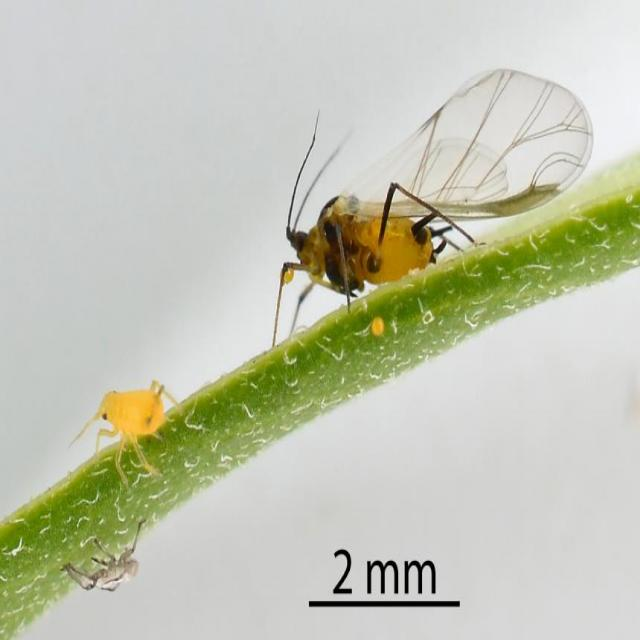Aphid-Grown-: (70, 368, 192, 504)
Aphid-Grown-have wings-: (237, 48, 597, 320)
